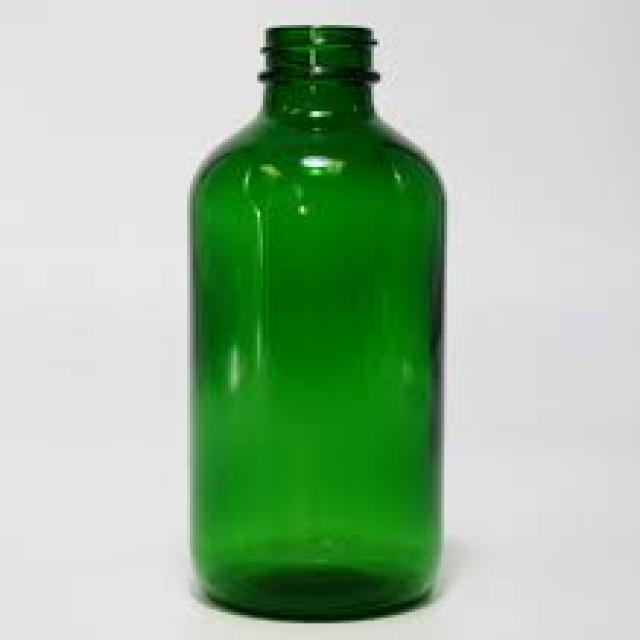glass: (190, 22, 441, 618)
